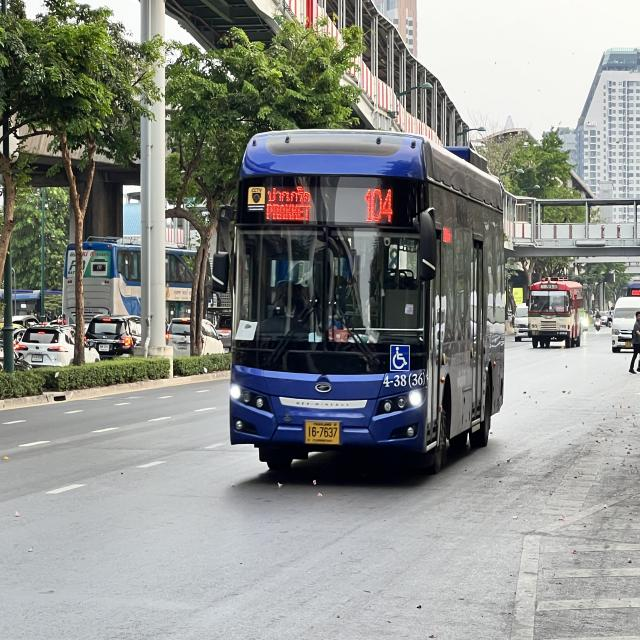BMTA-bus: (526, 272, 585, 350)
Bus-Line-Number: (360, 182, 402, 228)
Destination-Sign-Normal: (263, 184, 316, 226)
TSB-Bus: (222, 122, 510, 489)
